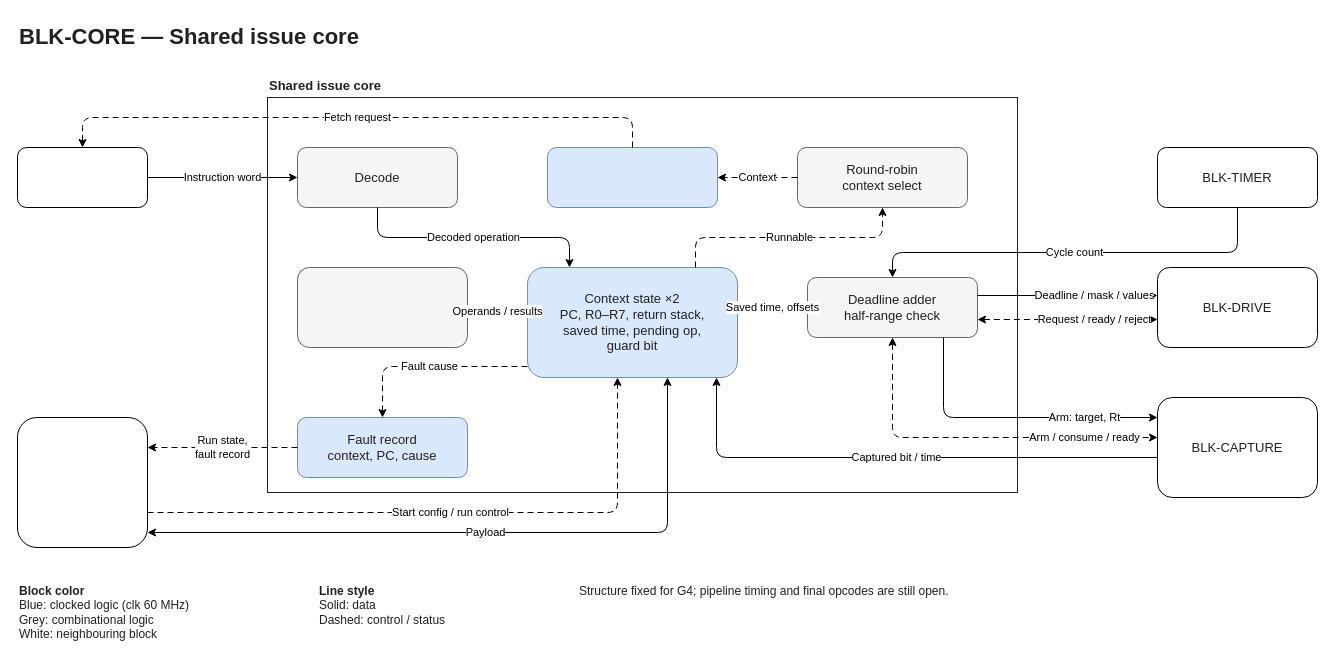
This 1335x664 diagram has some shape labels left out. Each missing label, with the centre of its shape:
ALU and register writes port A, narrow port, offset pair: point 382,307
BLK-HOST: point 82,482
BLK-PROGRAM: point 82,177
Fetch slot PC, context tag: point 632,177
